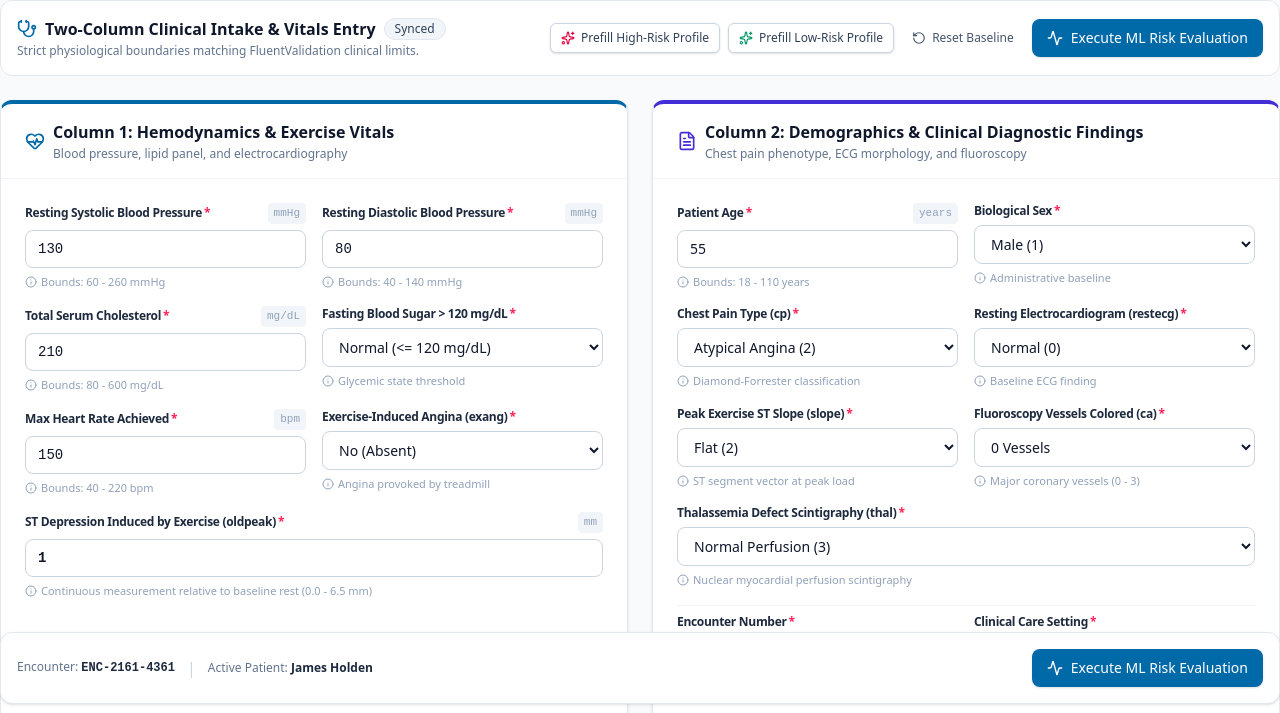
ClinicalIntakeForm Two-Column Component › populates low-risk baseline and updates form inputs
Click the button "Prefill Low-Risk Profile". click: coordinates (811, 38)
box: [728,23,894,53]
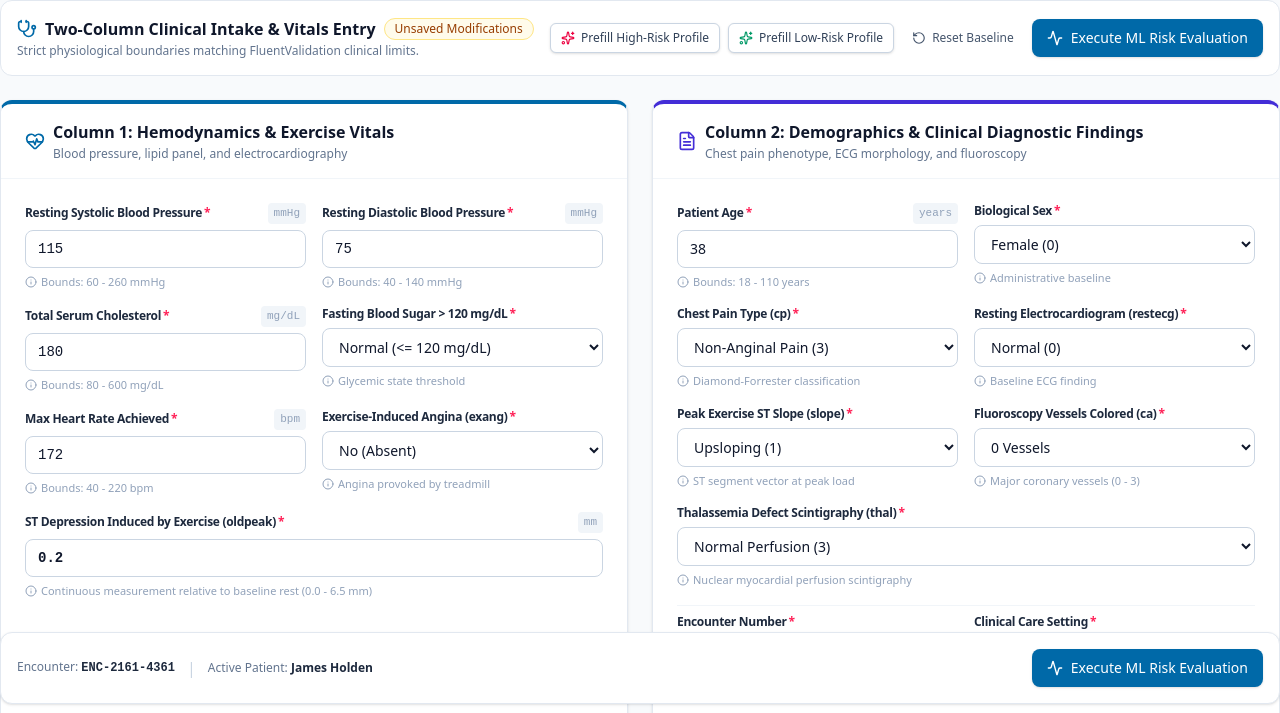
Expected: the number field labelled "Resting Systolic Blood Pressure*" holds "115", [25,230,306,268]
Expected: the number field labelled "ST Depression Induced by Exercise (oldpeak)*" holds "0.2", [25,538,603,576]
